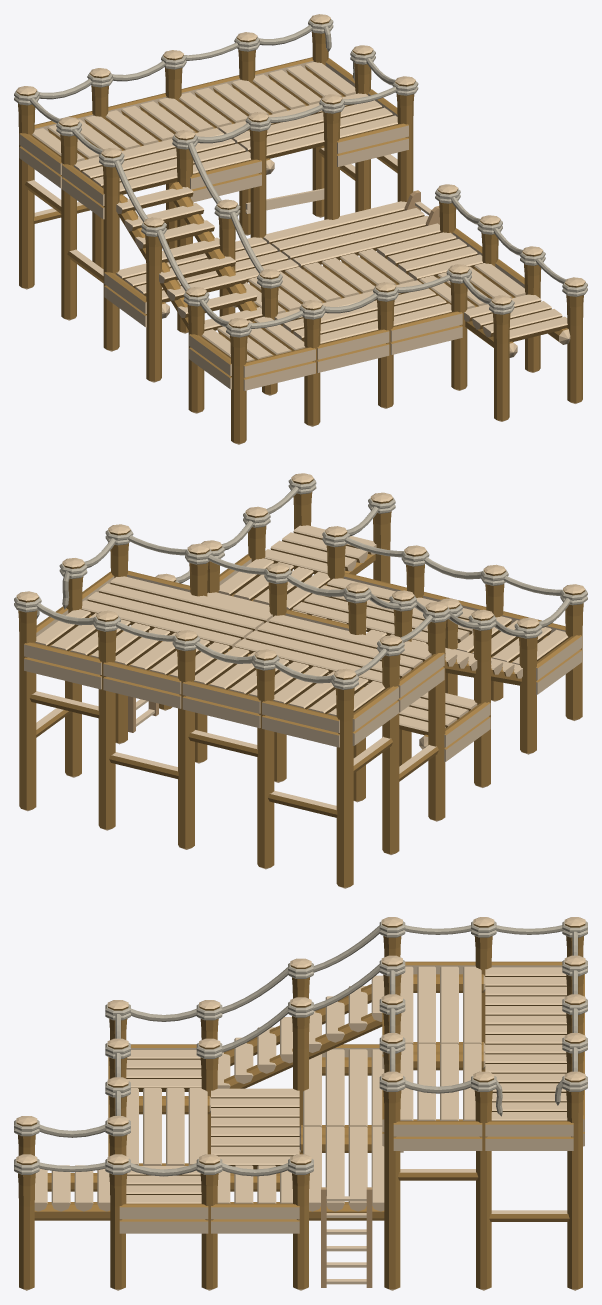
The model's file is Docks.glb.
3 views of the same model, one above another, from view 1: azimuth 30°, elevation 25°; view 2: azimuth 150°, elevation 25°; view 3: azimuth 270°, elevation 25° (orthographic). The views are drawn at different scales.
Visible parts, largest first — view 1: Docks_Decking_Flat_1x2__Wood Light__2__0__1, Docks_Decking_Steps_1x2__Wood Light__2__0__1, Docks_Decking_Flat_1x2__Wood Light__2__0__4, Docks_Decking_Flat_1x2__Wood Light__2__0__3, Docks_Decking_Flat_1x2__Wood Light__2__0__5, Docks_Decking_Steps_1x2__Wood Dark__1__0__1, Docks_Decking_Flat_1x1__Wood Light__2__0__4, Docks_Decking_Flat_1x1__Wood Light__2__0__3, Docks_Decking_Flat_1x1__Wood Light__2__0__9, Docks_Decking_Flat_1x1__Wood Light__2__0__2, Docks_Decking_Flat_1x1__Wood Light__2__0__1, Docks_Decking_Flat_1x2__Wood Light__2__0__2 (+52 smaller); view 2: Docks_Decking_Flat_1x2__Wood Light__2__0__3, Docks_Decking_Flat_1x2__Wood Light__2__0__4, Docks_Decking_Flat_1x2__Wood Light__2__0__5, Docks_Decking_Flat_1x1__Wood Light__2__0__6, Docks_Decking_Flat_1x1__Wood Light__2__0__7, Docks_Decking_Flat_1x1__Wood Light__2__0__9, Docks_Decking_Flat_1x1__Wood Light__2__0__8, Docks_Bumper_1_1x1__Wood Light__1__0__7, Docks_Bumper_1_1x1__Wood Light__1__0__4, Docks_Decking_Flat_1x1__Wood Light__2__0__2, Docks_Decking_Flat_1x1__Wood Light__2__0__1, Docks_Bumper_1_1x1__Wood Light__1__0__15 (+64 smaller); view 3: Docks_Decking_Flat_1x2__Wood Light__2__0__4, Docks_Decking_Flat_1x2__Wood Light__2__0__5, Docks_Decking_Flat_1x2__Wood Light__2__0__2, Docks_Decking_Flat_1x2__Wood Light__2__0__1, Docks_Decking_Flat_1x2__Wood Light__2__0__3, Docks_Decking_Steps_1x2__Wood Light__2__0__1, Docks_Decking_Flat_1x1__Wood Light__2__0__5, Docks_Decking_Flat_1x1__Wood Light__2__0__3, Docks_Decking_Flat_1x1__Wood Light__2__0__2, Docks_Decking_Flat_1x1__Wood Light__2__0__7, Docks_Decking_Flat_1x1__Wood Light__2__0__9, Docks_Decking_Flat_1x1__Wood Light__2__0__10 (+55 smaller).
Boxes of the visible parts, left/top/right/bottom form: Docks_Decking_Flat_1x2__Wood Light__2__0__1: left=264, top=201, right=440, bottom=265; Docks_Decking_Steps_1x2__Wood Light__2__0__1: left=117, top=187, right=262, bottom=329; Docks_Decking_Flat_1x2__Wood Light__2__0__4: left=74, top=128, right=250, bottom=191; Docks_Decking_Flat_1x2__Wood Light__2__0__3: left=219, top=93, right=397, bottom=155; Docks_Decking_Flat_1x2__Wood Light__2__0__5: left=275, top=280, right=451, bottom=343; Docks_Decking_Steps_1x2__Wood Dark__1__0__1: left=118, top=182, right=262, bottom=330; Docks_Decking_Flat_1x1__Wood Light__2__0__4: left=377, top=232, right=482, bottom=278; Docks_Decking_Flat_1x1__Wood Light__2__0__3: left=303, top=249, right=413, bottom=296; Docks_Decking_Flat_1x1__Wood Light__2__0__9: left=179, top=79, right=285, bottom=126; Docks_Decking_Flat_1x1__Wood Light__2__0__2: left=105, top=97, right=212, bottom=144; Docks_Decking_Flat_1x1__Wood Light__2__0__1: left=253, top=62, right=355, bottom=108; Docks_Decking_Flat_1x2__Wood Light__2__0__2: left=116, top=237, right=298, bottom=299; Docks_Decking_Flat_1x2__Wood Light__2__0__3: left=81, top=576, right=272, bottom=645; Docks_Decking_Flat_1x2__Wood Light__2__0__4: left=234, top=615, right=430, bottom=682; Docks_Decking_Flat_1x2__Wood Light__2__0__5: left=292, top=578, right=474, bottom=642; Docks_Decking_Flat_1x1__Wood Light__2__0__6: left=265, top=525, right=376, bottom=573; Docks_Decking_Flat_1x1__Wood Light__2__0__7: left=273, top=666, right=384, bottom=714; Docks_Decking_Flat_1x1__Wood Light__2__0__9: left=115, top=627, right=229, bottom=676; Docks_Decking_Flat_1x1__Wood Light__2__0__8: left=219, top=558, right=329, bottom=608; Docks_Bumper_1_1x1__Wood Light__1__0__7: left=182, top=683, right=259, bottom=727; Docks_Bumper_1_1x1__Wood Light__1__0__4: left=103, top=664, right=180, bottom=708; Docks_Decking_Flat_1x1__Wood Light__2__0__2: left=194, top=647, right=308, bottom=695; Docks_Decking_Flat_1x1__Wood Light__2__0__1: left=36, top=609, right=150, bottom=656; Docks_Bumper_1_1x1__Wood Light__1__0__15: left=24, top=644, right=100, bottom=689; Docks_Decking_Flat_1x2__Wood Light__2__0__4: left=400, top=966, right=481, bottom=1043; Docks_Decking_Flat_1x2__Wood Light__2__0__5: left=126, top=1088, right=207, bottom=1164; Docks_Decking_Flat_1x2__Wood Light__2__0__2: left=303, top=1049, right=384, bottom=1126; Docks_Decking_Flat_1x2__Wood Light__2__0__1: left=303, top=1126, right=384, bottom=1203; Docks_Decking_Flat_1x2__Wood Light__2__0__3: left=400, top=1043, right=481, bottom=1120; Docks_Decking_Steps_1x2__Wood Light__2__0__1: left=217, top=975, right=384, bottom=1085; Docks_Decking_Flat_1x1__Wood Light__2__0__5: left=211, top=1088, right=299, bottom=1126; Docks_Decking_Flat_1x1__Wood Light__2__0__3: left=211, top=1127, right=299, bottom=1164; Docks_Decking_Flat_1x1__Wood Light__2__0__2: left=485, top=1006, right=566, bottom=1043; Docks_Decking_Flat_1x1__Wood Light__2__0__7: left=485, top=967, right=566, bottom=1004; Docks_Decking_Flat_1x1__Wood Light__2__0__9: left=485, top=1044, right=566, bottom=1081; Docks_Decking_Flat_1x1__Wood Light__2__0__10: left=126, top=1050, right=201, bottom=1087.
Bounding box in the file's own units: 4.28 × 2.62 × 6.28.
